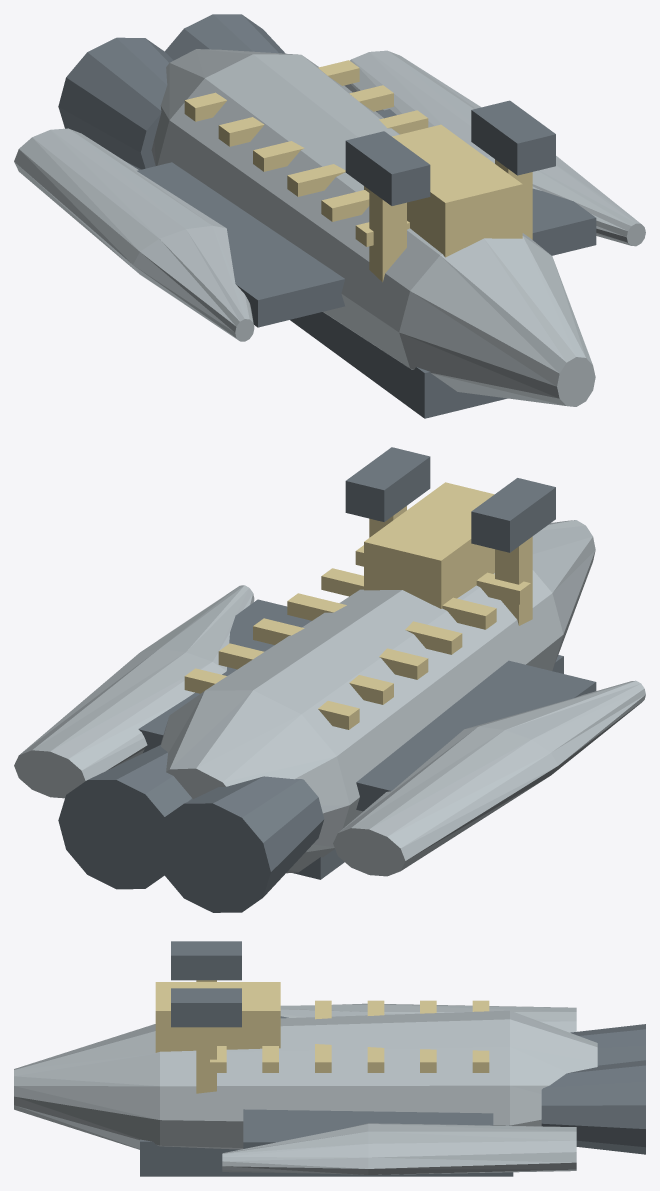
3 renders of one model, top to bottom at view 1: azimuth 30°, elevation 25°; view 2: azimuth 150°, elevation 25°; view 3: azimuth 270°, elevation 25°, orthographic. The views are drawn at different scales.
Size of the model in its own units: 3.94 by 2.16 by 6.61.
